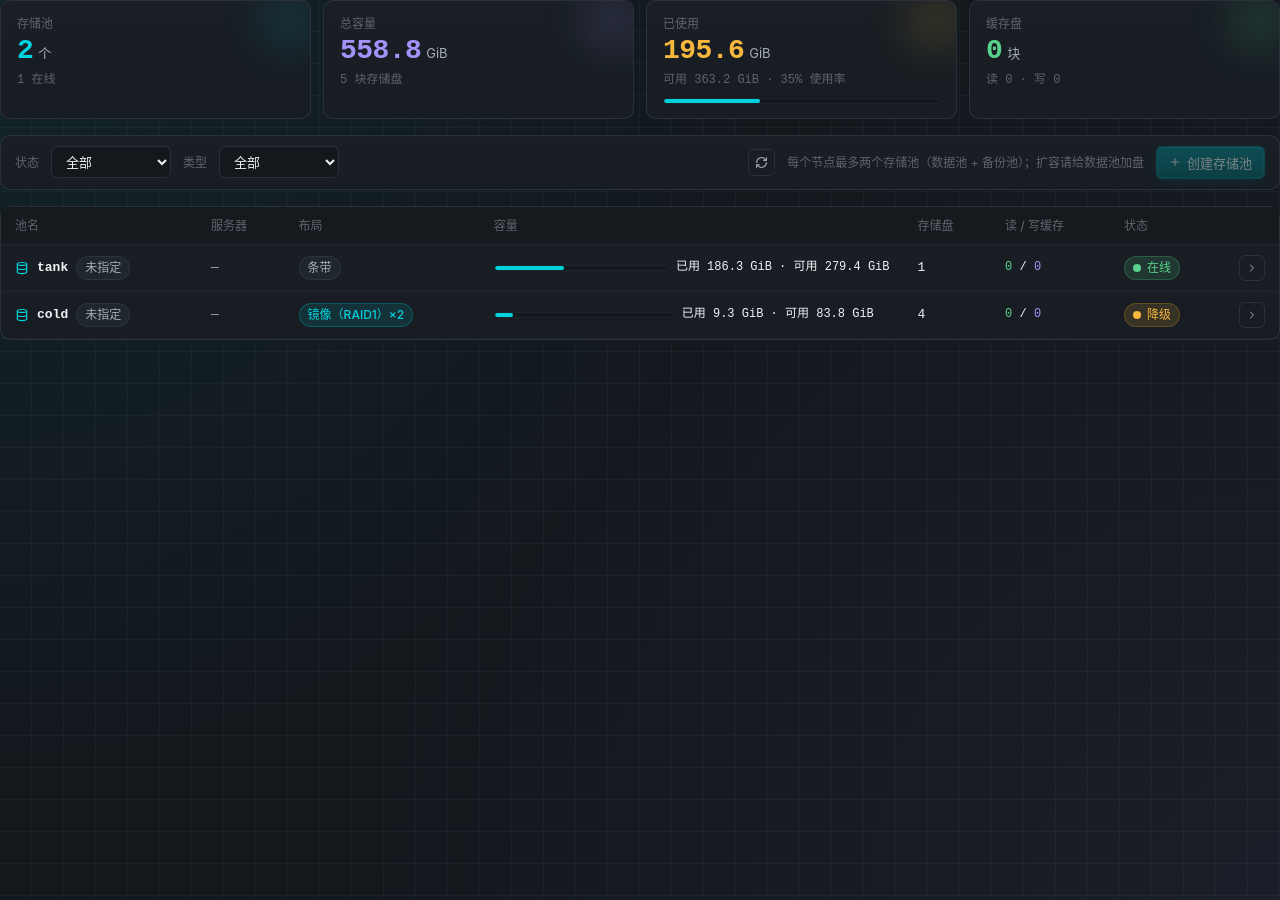
Test case: 存储页 › 按健康状态过滤
expect the text "tank" is shown: met, box [37, 259, 68, 278]
Select "异常" in the dropdown named "按状态筛选": (111, 162) [51, 146, 171, 178]
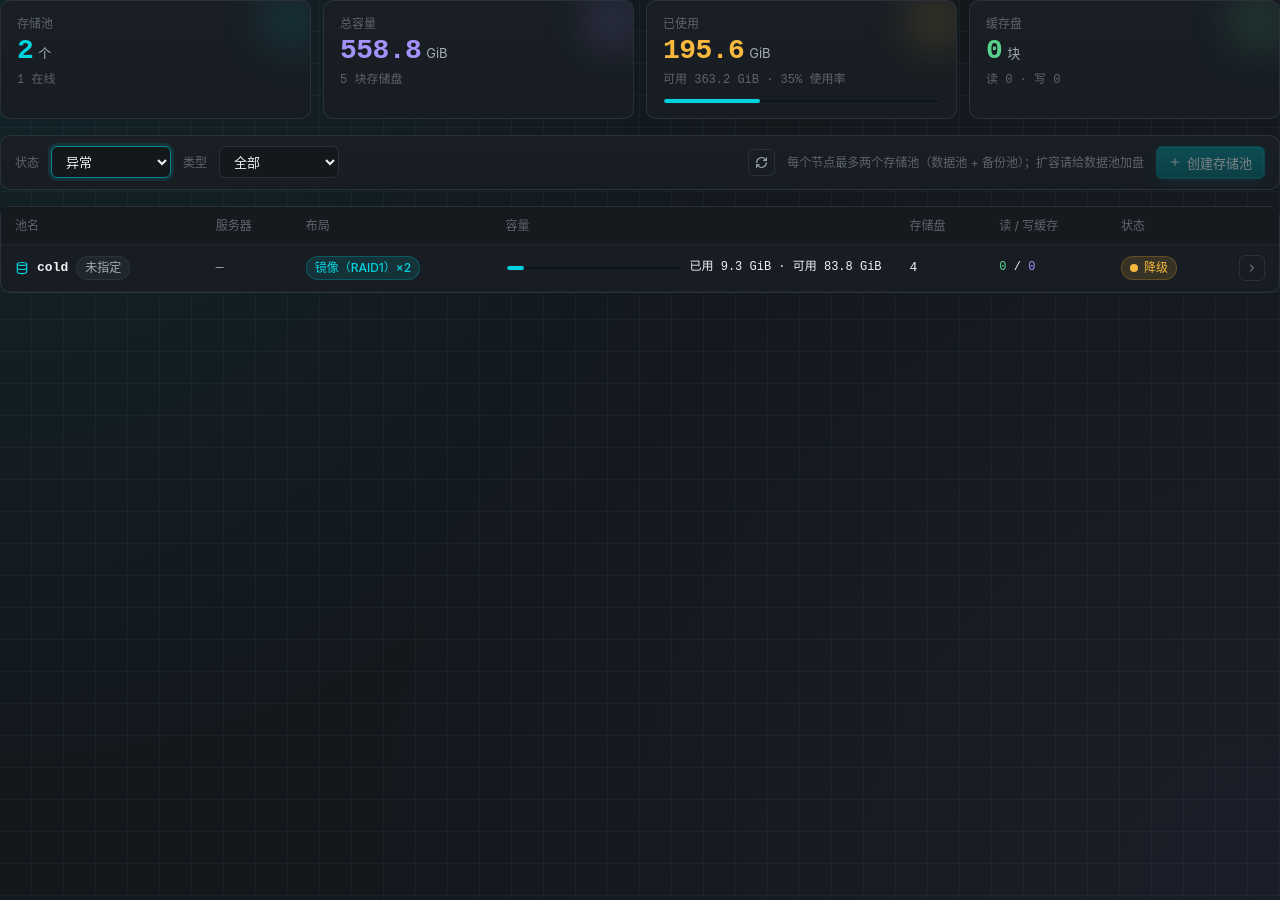
expect the text "cold" is shown: met, box [37, 259, 68, 278]
expect the text "tank" is gone: met
